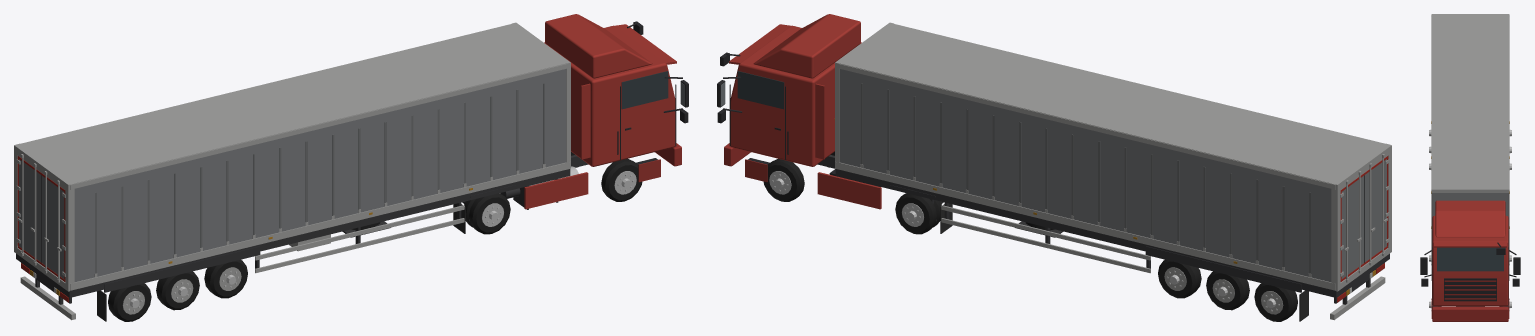
File: SM_Prop_services_lorry_1.glb
The picture shows the model from 3 angles, left to right: view 1: azimuth 30°, elevation 25°; view 2: azimuth 150°, elevation 25°; view 3: azimuth 270°, elevation 25°; orthographic projection. The views are drawn at different scales.
Visible parts, largest first — view 1: SM_Prop_services_lorry_1; view 2: SM_Prop_services_lorry_1; view 3: SM_Prop_services_lorry_1.
Part boxes in pixels (x1,y1,x2,y2): SM_Prop_services_lorry_1: (14, 14, 688, 321); SM_Prop_services_lorry_1: (717, 14, 1391, 321); SM_Prop_services_lorry_1: (1420, 14, 1520, 321).
Size of the model in its own units: 16.9 by 4 by 3.3.
